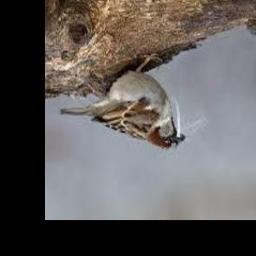Sparrow: (59, 54, 186, 152)
